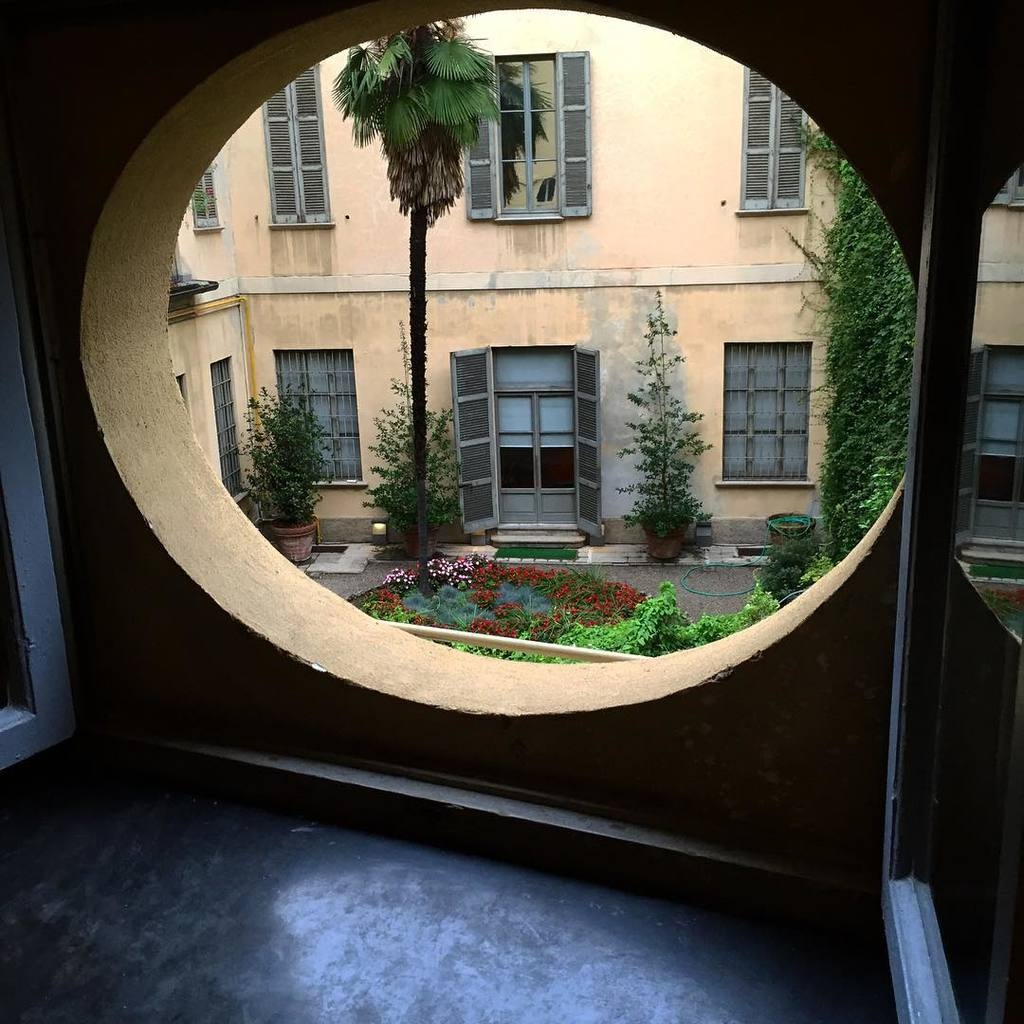Tree: (329, 20, 496, 567)
